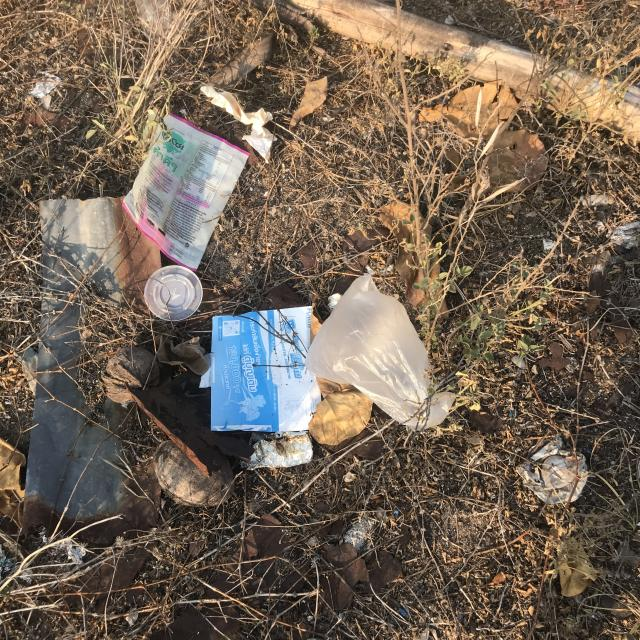Single-layer Plastic: (305, 274, 455, 431)
